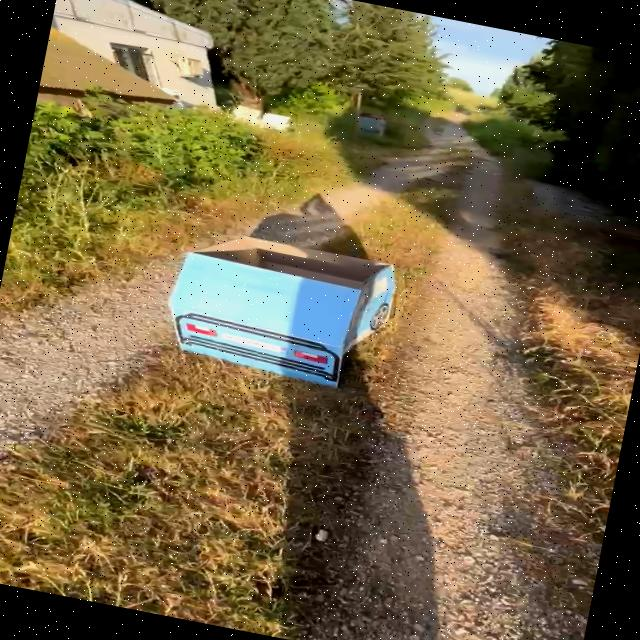blue_car: (101, 201, 468, 437)
